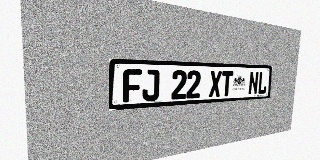2: (171, 70, 187, 100), (186, 70, 201, 99)
F: (123, 69, 142, 103)
J: (142, 69, 160, 101)
L: (257, 72, 268, 94)
N: (248, 71, 259, 95)
T: (221, 71, 233, 97)
X: (209, 71, 222, 97)
